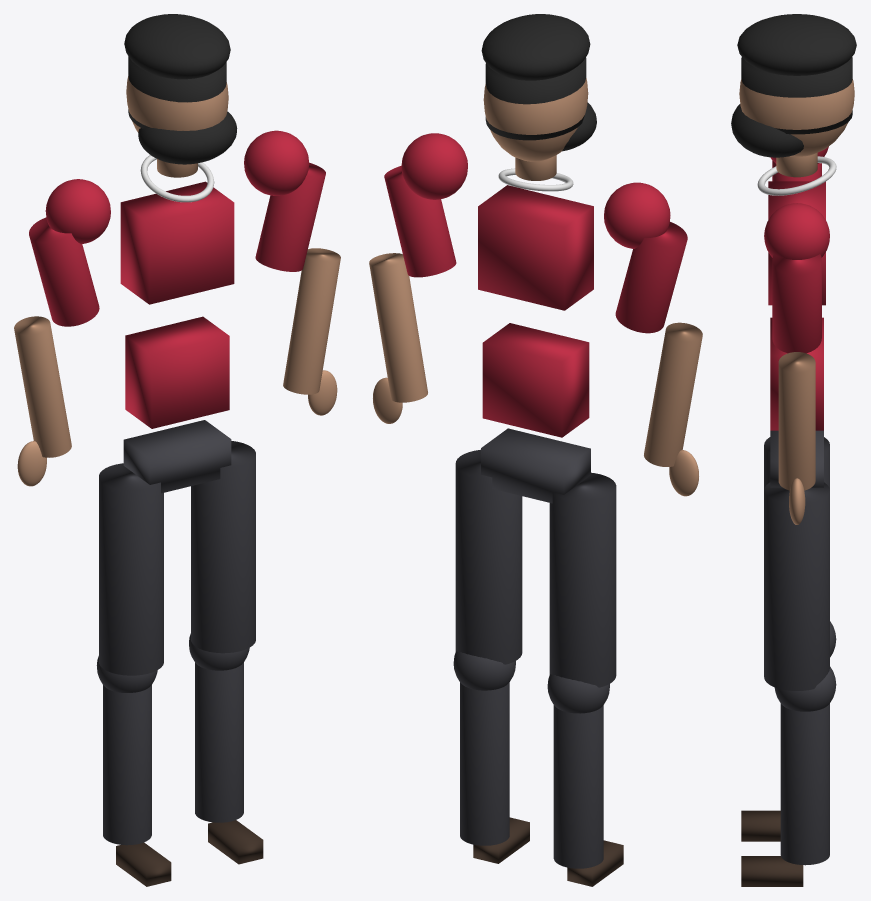
The model's file is player.glb.
The picture shows the model from 3 angles, left to right: view 1: azimuth 30°, elevation 25°; view 2: azimuth 150°, elevation 25°; view 3: azimuth 270°, elevation 25°; orthographic projection. The views are drawn at different scales.
Visible parts, largest first — view 1: Cylinder.002, Cylinder.004, Cube, Cube.001, Cylinder.005, Cylinder.003, Cube.002, Sphere.001, Cylinder.009, Cylinder.007, Cylinder.006, Cylinder.008 (+12 smaller); view 2: Cylinder.002, Cylinder.004, Cube, Cube.001, Cylinder.003, Cylinder.005, Cube.002, Sphere.001, Cylinder.009, Cylinder.007, Cylinder.006, Sphere (+13 smaller); view 3: Cylinder.004, Cylinder.005, Sphere.001, Cylinder.009, Cylinder.008, Sphere, Sphere.007, Cylinder.001, Sphere.002, Cube.004, Cube.001, Cube (+8 smaller).
Part boxes in pixels (x1,y1,x2,y2): Cylinder.002: (99, 463, 163, 675); Cylinder.004: (191, 441, 255, 653); Cube: (120, 181, 234, 304); Cube.001: (125, 316, 229, 428); Cylinder.005: (195, 662, 243, 822); Cylinder.003: (103, 685, 151, 845); Cube.002: (123, 420, 231, 493); Sphere.001: (124, 14, 230, 79); Cylinder.009: (283, 248, 340, 394); Cylinder.007: (14, 316, 71, 457); Cylinder.006: (29, 217, 99, 326); Cylinder.008: (255, 162, 325, 271); Cylinder.002: (549, 472, 616, 687); Cylinder.004: (455, 449, 522, 664); Cube: (478, 185, 593, 310); Cube.001: (482, 323, 589, 437); Cylinder.003: (553, 705, 603, 868); Cylinder.005: (460, 682, 509, 845); Cube.002: (481, 428, 590, 503); Sphere.001: (481, 14, 590, 80); Cylinder.009: (369, 253, 427, 402); Cylinder.007: (644, 322, 702, 466); Cylinder.006: (615, 222, 687, 333); Sphere: (483, 78, 588, 161); Cylinder.004: (764, 482, 829, 690); Cylinder.005: (780, 703, 829, 865); Sphere.001: (737, 14, 856, 75); Cylinder.009: (778, 352, 815, 490); Cylinder.008: (772, 254, 821, 353); Sphere: (739, 79, 854, 156); Sphere.007: (764, 203, 829, 259); Cylinder.001: (741, 57, 852, 134); Sphere.002: (731, 104, 803, 157); Cube.004: (741, 856, 803, 886); Cube.001: (770, 317, 823, 430); Cube: (768, 181, 825, 305).
Size of the model in its own units: 0.9094 by 2.24 by 0.305.
